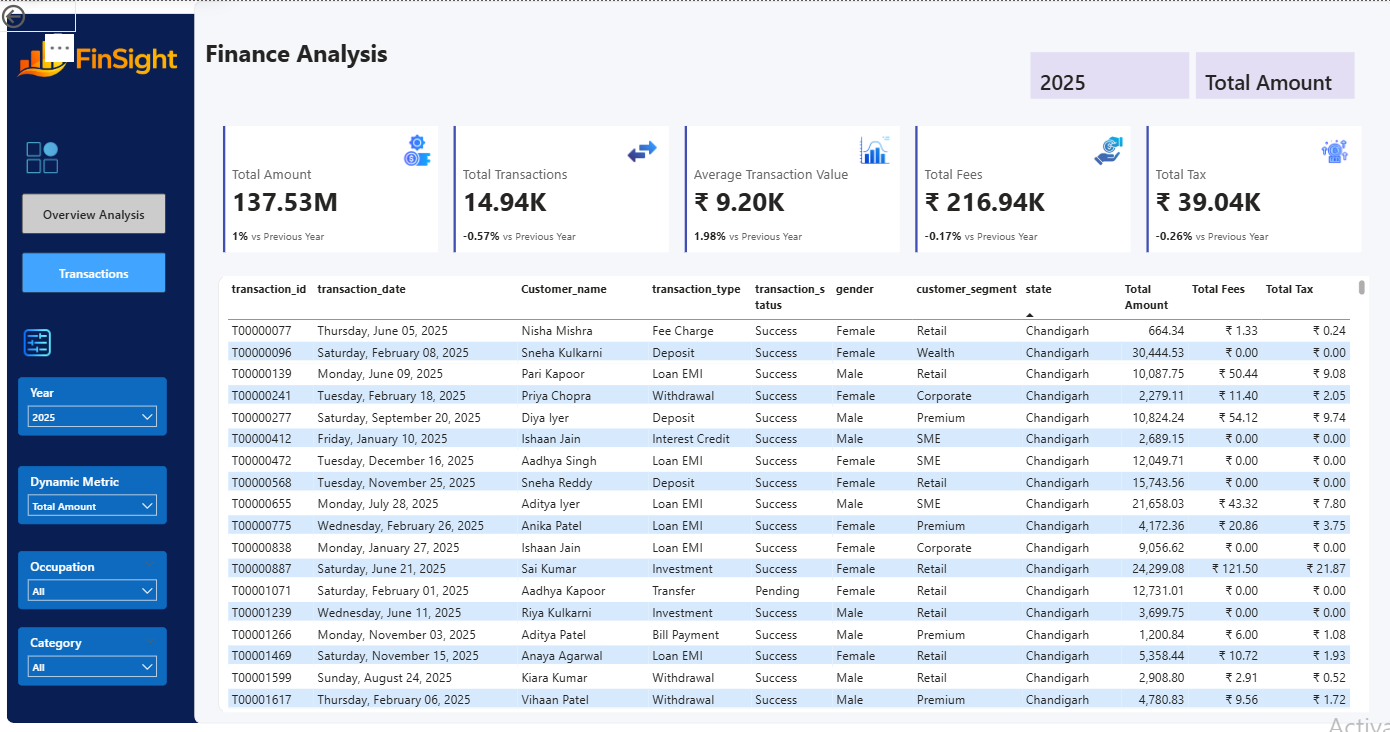

The page's visual inventory and layout, read from the dashboard file:
{"tool":"powerbi","page":{"name":"Transactions","canvas":[1800,950],"ordinal":1},"visuals":[{"type":"shape","box":[11.4,16.4,279.6,915.7],"z":0},{"type":"shape","box":[253.3,0,1547.3,932.6],"z":1000},{"type":"image","box":[11.4,16.4,238.7,109.6],"z":2000},{"type":"cardVisual","fields":{"Data":["Finance_transactions.Dashboard Title"]},"box":[250.2,21.3,281.3,104.7],"z":3000},{"type":"cardVisual","fields":{"Data":["Finance_transactions.Total Amount","Finance_transactions.Total Transactions","Finance_transactions.Average Transaction Value","Finance_transactions.Total Fees","Finance_transactions.Total  Tax"]},"box":[284,156.5,1486,180.7],"z":4000},{"type":"image","box":[516.6,167.3,50.2,50.2],"z":6000},{"type":"image","box":[807.3,169.4,50.2,50.2],"z":7000},{"type":"image","box":[1408.6,169.4,50,48.4],"z":8000},{"type":"image","box":[1106.3,167.3,50.2,50.2],"z":9000},{"type":"image","box":[1700.2,169.4,50.2,50.2],"z":10000},{"type":"shape","box":[284,355,1486,563.1],"z":12000},{"type":"cardVisual","fields":{"Data":["Finance_transactions.Selected Year","Dynamic Metric.Selected Dynamic Measure"]},"box":[1327.9,61.3,429.2,71],"z":13000},{"type":"tableEx","fields":{"Values":["Finance_transactions.transaction_id","Finance_transactions.transaction_date","Customers.Customer_name","Finance_transactions.transaction_type","Finance_transactions.transaction_status","Customers.gender","Customers.customer_segment","Customers.state","Finance_transactions.Total Amount","Finance_transactions.Total Fees","Finance_transactions.Total  Tax"]},"box":[290.4,355,1479.5,563.1],"z":14000},{"type":"actionButton","box":[0,0,100,40],"z":15000},{"type":"slicer","fields":{"Values":["Calendar Table.Year"]},"box":[25,485.9,192.4,75.3],"z":15001},{"type":"slicer","fields":{"Values":["Dynamic Metric.Dynamic Metric"]},"box":[25,600.9,192.4,75.3],"z":15002},{"type":"slicer","fields":{"Values":["Customers.occupation"]},"box":[25,709.6,192.4,75.3],"z":15003},{"type":"slicer","fields":{"Values":["Finance_transactions.merchant_category"]},"box":[25,807.9,192.4,75.3],"z":15004},{"type":"pageNavigator","box":[31.4,248.8,186.1,129.6],"z":15005},{"type":"image","box":[32.2,177,50.1,50.1],"z":15006},{"type":"image","box":[25,416.6,50.1,50.1],"z":15007}]}

Visuals, with their boxes on the page's 1800x950 design canvas (x1, y1, x2, y2). These are canvas units, not pixel positions in the 1390x732 screenshot, which may show the page scaled, cropped or inside an application window:
shape: locate(11, 16, 291, 932)
shape: locate(253, 0, 1801, 933)
image: locate(11, 16, 250, 126)
cardVisual - Finance_transactions.Dashboard Title: locate(250, 21, 532, 126)
cardVisual - Finance_transactions.Total Amount x Finance_transactions.Total Transactions: locate(284, 156, 1770, 337)
image: locate(517, 167, 567, 218)
image: locate(807, 169, 858, 220)
image: locate(1409, 169, 1459, 218)
image: locate(1106, 167, 1156, 218)
image: locate(1700, 169, 1750, 220)
shape: locate(284, 355, 1770, 918)
cardVisual - Finance_transactions.Selected Year x Dynamic Metric.Selected Dynamic Measure: locate(1328, 61, 1757, 132)
tableEx - Finance_transactions.transaction_id x Finance_transactions.transaction_date: locate(290, 355, 1770, 918)
actionButton: locate(0, 0, 100, 40)
slicer - Calendar Table.Year: locate(25, 486, 217, 561)
slicer - Dynamic Metric.Dynamic Metric: locate(25, 601, 217, 676)
slicer - Customers.occupation: locate(25, 710, 217, 785)
slicer - Finance_transactions.merchant_category: locate(25, 808, 217, 883)
pageNavigator: locate(31, 249, 218, 378)
image: locate(32, 177, 82, 227)
image: locate(25, 417, 75, 467)
